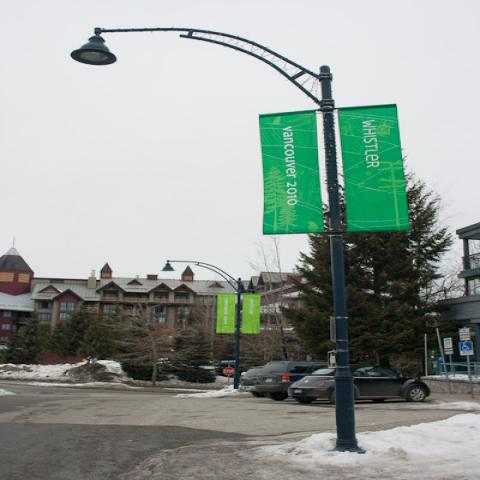car: (287, 363, 432, 405), (254, 361, 326, 402), (238, 366, 265, 398)
